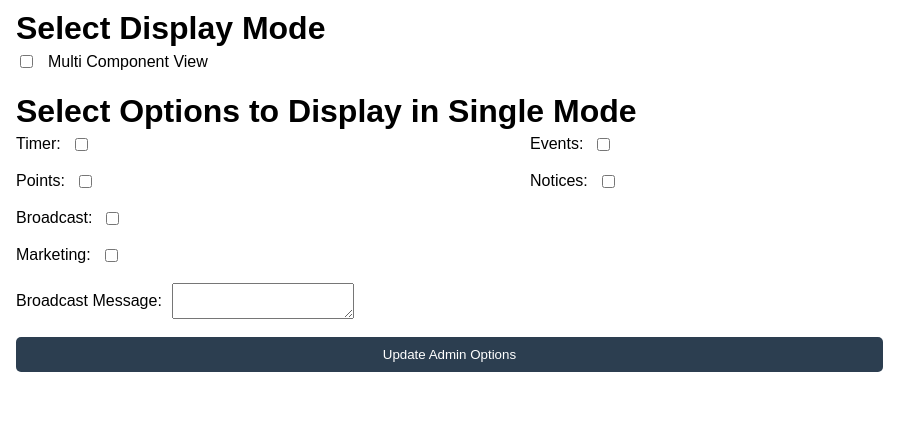
Test: <Options /> › submits the form and shows success message
This screenshot has width=900, height=427.
Click the button "Update Admin Options".
click(449, 354)  # box x1=16 y1=337 x2=883 y2=372
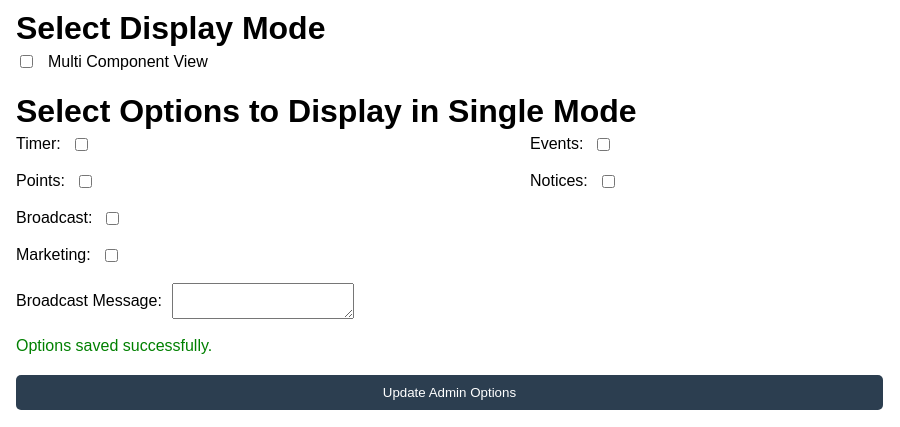
Result: the text "Options saved successfully." is shown at x1=16 y1=337 x2=212 y2=354
